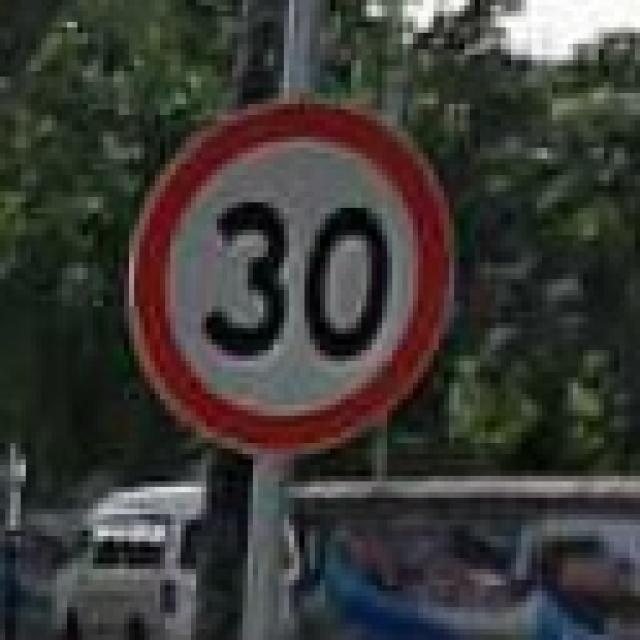Speed Limit -30-: (199, 196, 395, 364)
